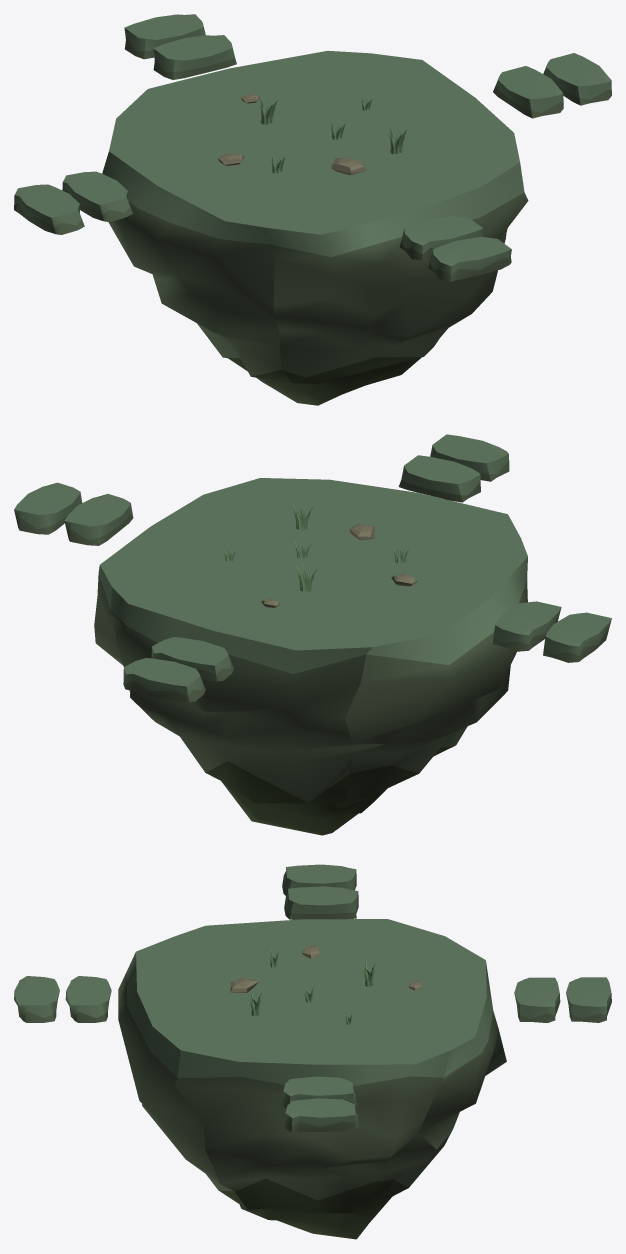
The model's file is Land.fbx.
The picture shows the model from 3 angles, top to bottom: view 1: azimuth 30°, elevation 25°; view 2: azimuth 150°, elevation 25°; view 3: azimuth 270°, elevation 25°; orthographic projection. The views are drawn at different scales.
Parts seen in each view (by area): view 1: pCylinder1, pasted__pCube1 (×2), pasted__pasted__pasted__pCube1 (×2), pasted__pasted__pCube1 (×2), pasted__pasted__pasted__pasted__pCube1, pCube1; view 2: pCylinder1, pasted__pasted__pCube1 (×2), pasted__pasted__pasted__pCube1 (×2), pasted__pCube1 (×2), pCube1, pasted__pasted__pasted__pasted__pCube1; view 3: pCylinder1, pasted__pasted__pasted__pCube1 (×2), pasted__pCube1 (×2), pasted__pasted__pCube1 (×2), pCube1, pasted__pasted__pasted__pasted__pCube1.
Boxes of the visible parts, x1,y1,x2,y2 form: pCylinder1: [102, 50, 528, 405]; pasted__pCube1 (×2): [153, 35, 511, 281]; pasted__pasted__pasted__pCube1 (×2): [62, 53, 611, 221]; pasted__pasted__pCube1 (×2): [124, 14, 563, 118]; pasted__pasted__pasted__pasted__pCube1: [14, 184, 84, 234]; pCube1: [400, 216, 483, 260]; pCylinder1: [94, 478, 527, 835]; pasted__pasted__pCube1 (×2): [64, 494, 205, 702]; pasted__pasted__pasted__pCube1 (×2): [14, 482, 561, 651]; pasted__pCube1 (×2): [151, 434, 509, 681]; pCube1: [398, 455, 480, 502]; pasted__pasted__pasted__pasted__pCube1: [543, 612, 611, 662]; pCylinder1: [118, 919, 506, 1239]; pasted__pasted__pasted__pCube1 (×2): [284, 886, 359, 1131]; pasted__pCube1 (×2): [14, 976, 560, 1022]; pasted__pasted__pCube1 (×2): [283, 977, 611, 1108]; pCube1: [65, 976, 111, 1022]; pasted__pasted__pasted__pasted__pCube1: [282, 864, 356, 896].
Bounding box in the file's own units: 8.93 × 4.28 × 8.89.
